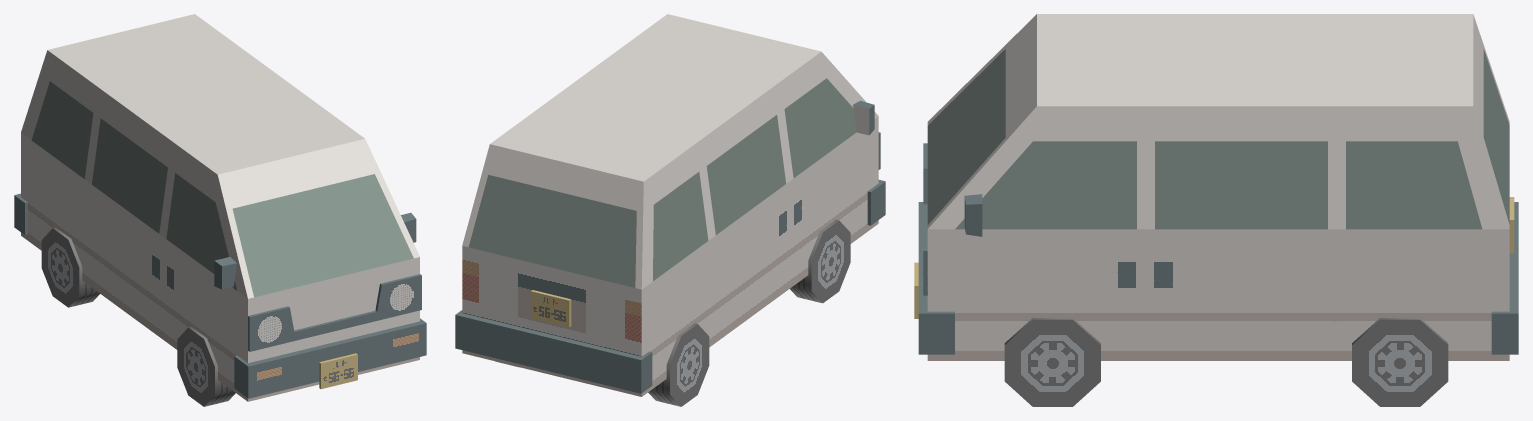
The model's file is 0096_Minivan.glb.
3 renders of one model, left to right at view 1: azimuth 30°, elevation 25°; view 2: azimuth 150°, elevation 25°; view 3: azimuth 270°, elevation 25°, orthographic. The views are drawn at different scales.
Parts seen in each view (by area): view 1: part_0, part_2, part_1; view 2: part_0, part_2, part_1; view 3: part_0, part_1, part_2.
Part boxes in pixels (bbox=[...]): part_0: bbox=[14, 14, 426, 401]; part_2: bbox=[41, 227, 99, 307]; part_1: bbox=[177, 326, 235, 406]; part_0: bbox=[455, 14, 885, 396]; part_2: bbox=[495, 323, 709, 406]; part_1: bbox=[790, 219, 850, 303]; part_0: bbox=[914, 14, 1518, 360]; part_1: bbox=[1004, 318, 1100, 406]; part_2: bbox=[1352, 318, 1448, 406].
Size of the model in its own units: 1.6 by 1.77 by 3.32.
3 materials, 3 textured.
